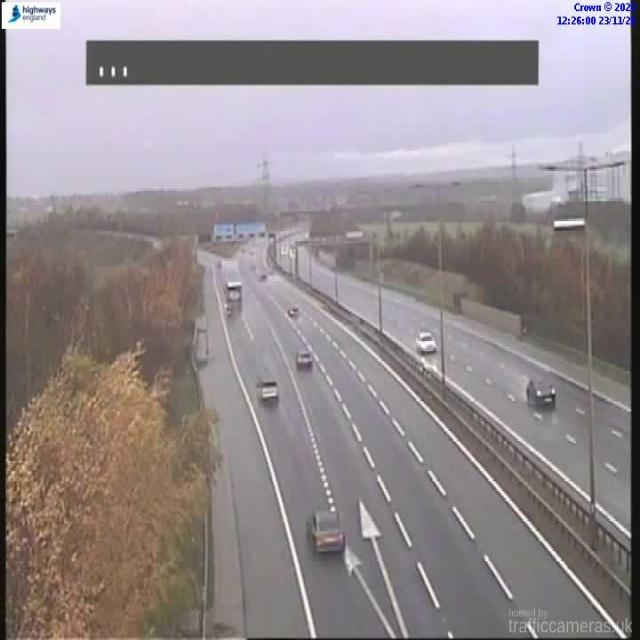foliage: (0, 223, 215, 639), (444, 223, 584, 353), (591, 237, 633, 367), (382, 223, 437, 268)
